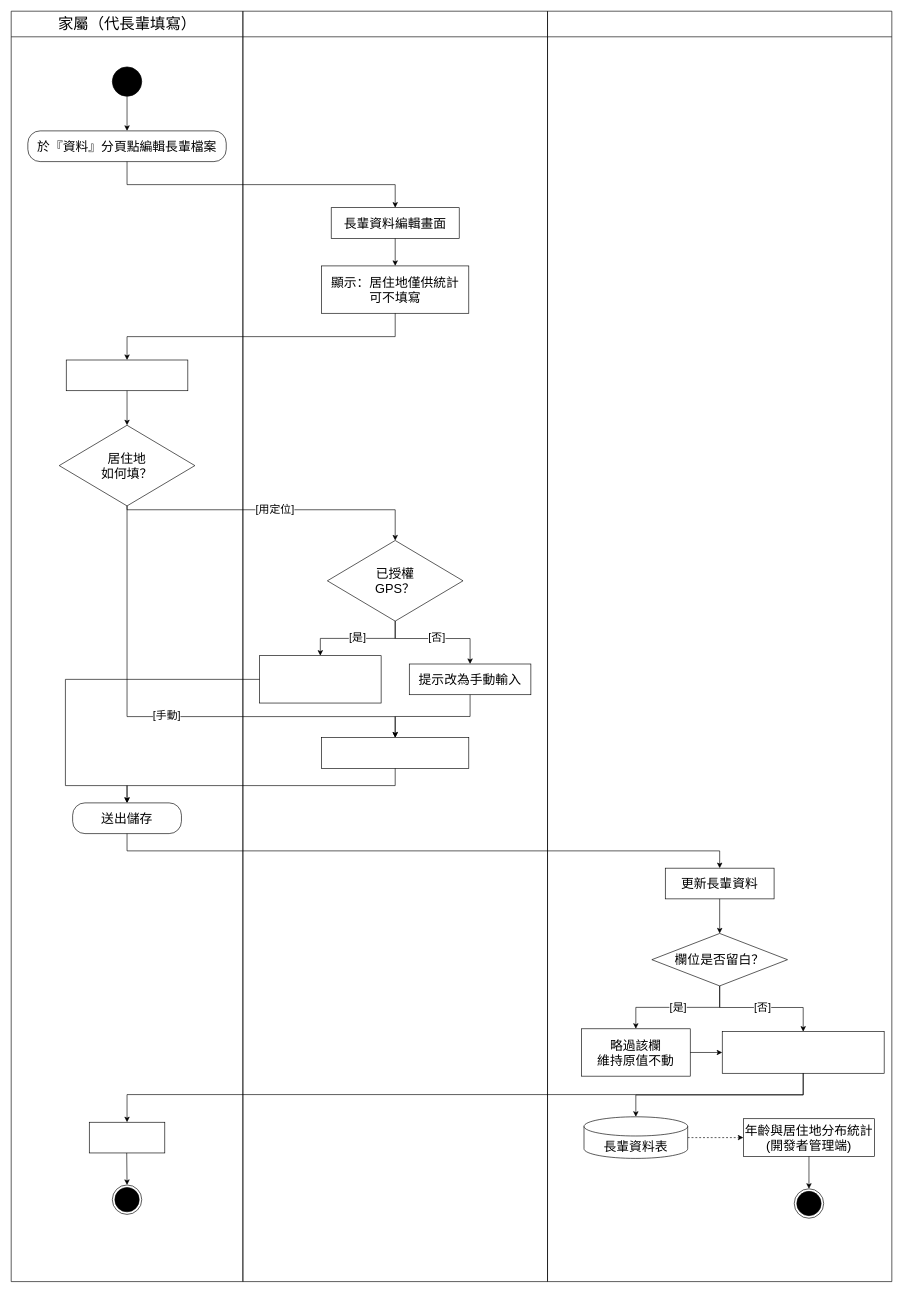
Some shapes in this 903 by 1293 pixel diagram are drawn without their labels. The shapes that lost their labels are listed below. From the top down, each one's box as (x1, y1, x2, y2) in pixels, then its label:
(66, 359, 188, 391): 填寫年齡（選填）
(242, 11, 548, 1282): 家屬端
(547, 11, 892, 1282): uban-api 後端
(259, 655, 381, 703): 以 GPS 座標 反查縣市、行政區
(321, 737, 469, 768): 手動輸入縣市／行政區
(722, 1031, 884, 1073): 寫入長輩資料表 （年齡、居住縣 市、行政區）
(89, 1122, 165, 1153): 儲存成功
